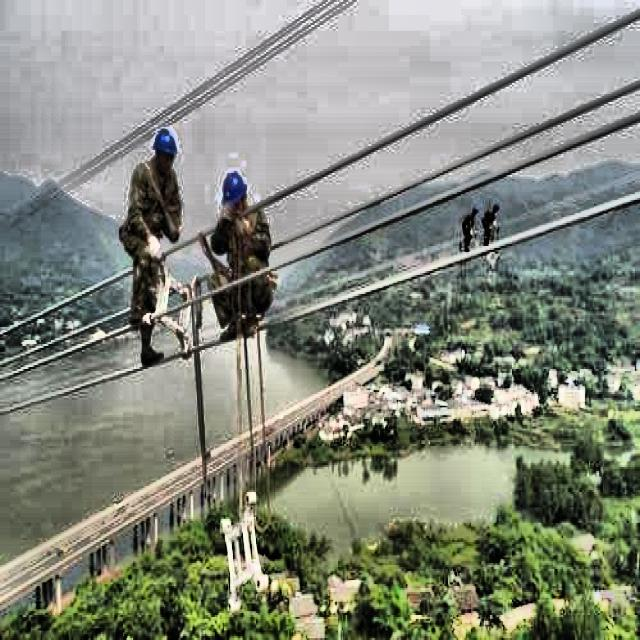helmet: (151, 125, 178, 177), (222, 165, 248, 219)
